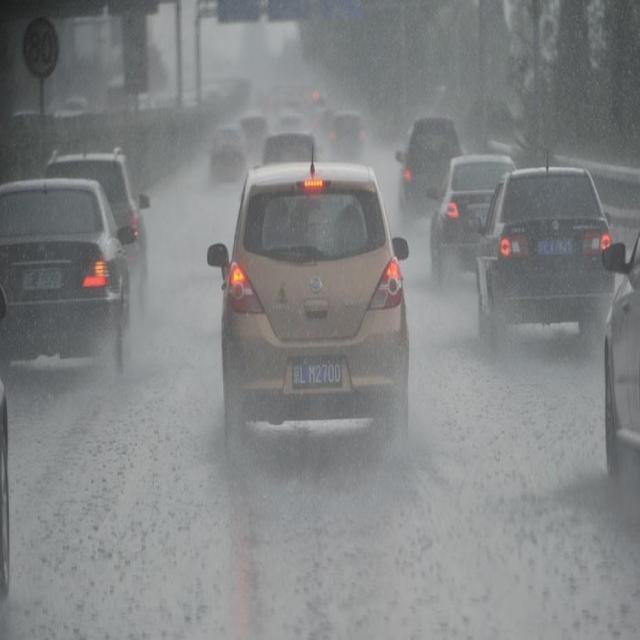car: (206, 145, 410, 449), (466, 146, 614, 348), (0, 178, 137, 378), (46, 145, 150, 310), (424, 154, 524, 282), (602, 227, 640, 485), (394, 115, 466, 215), (256, 130, 320, 193), (206, 120, 248, 184), (326, 108, 370, 161)
